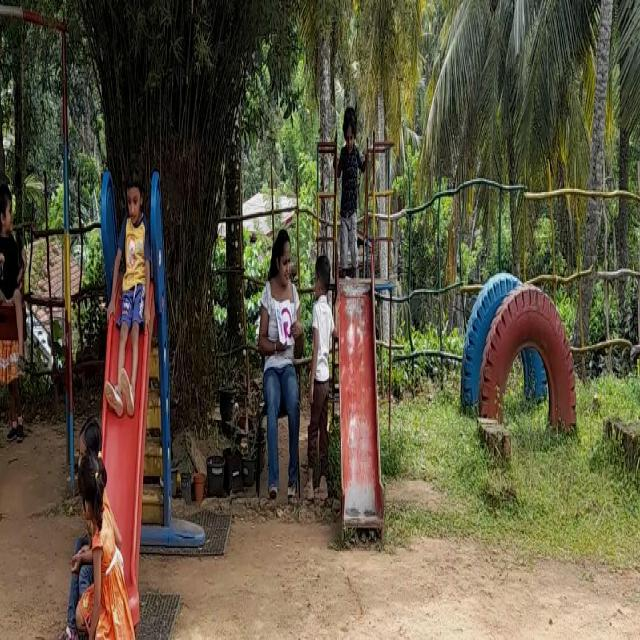adult: (243, 222, 302, 529)
child: (108, 158, 148, 428), (304, 251, 335, 511), (83, 466, 120, 640), (0, 180, 28, 374), (338, 113, 360, 282)
